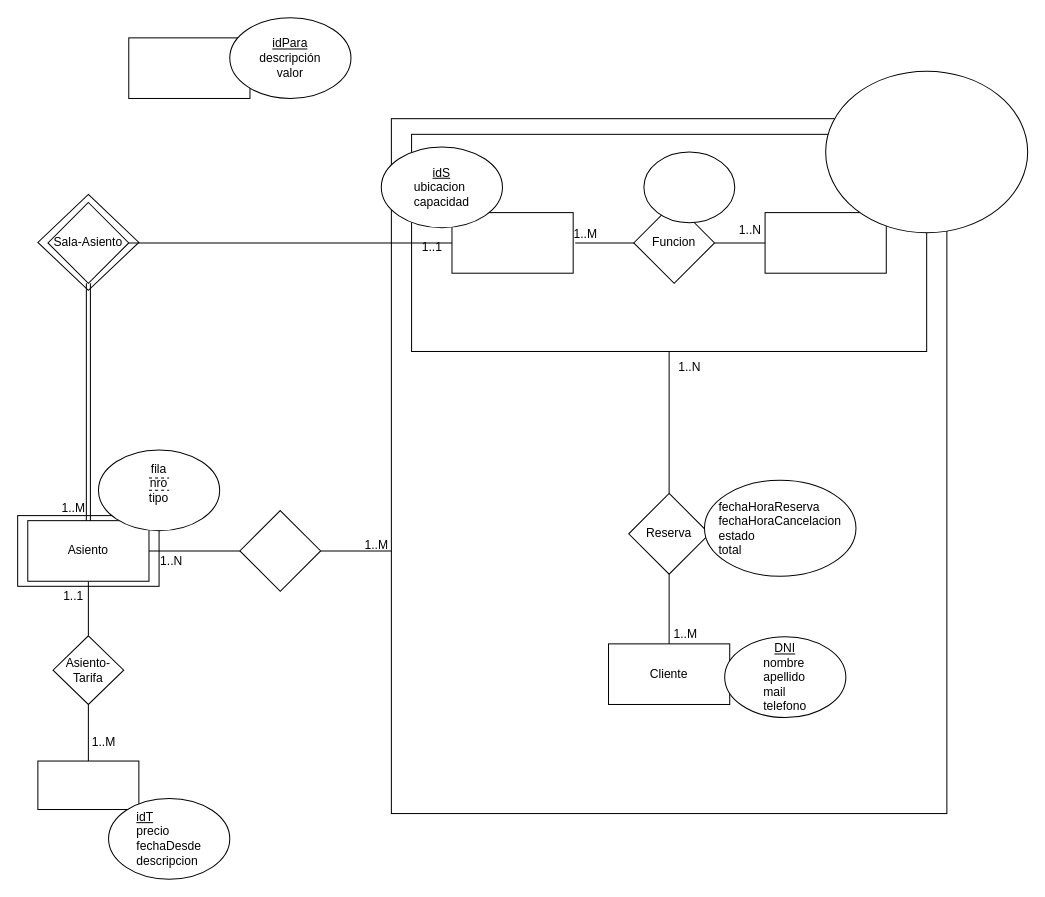
Some shapes in this 1045 by 897 pixel diagram are drawn without their labels. Here are the shapes that lost their labels. From the top down, the box of each, then its label:
(128, 37, 250, 98): Parmetro
(825, 70, 1028, 233): idP nombre duracion genero director fechaEstreno sinopsis trailer portada MPAA
(643, 151, 735, 223): fecha horaInicio
(451, 212, 573, 273): Sala
(764, 212, 886, 273): Pelicula
(239, 510, 321, 591): Asiento-Reserva
(37, 760, 139, 810): Tarifa
